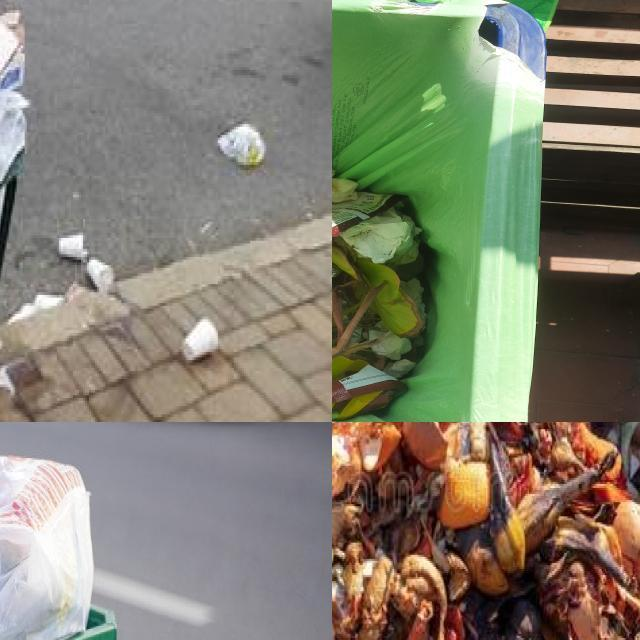Garbage: (332, 422, 640, 640), (332, 170, 426, 420), (0, 461, 93, 640)
Plastic_Bag: (0, 455, 93, 640)
Plastic_wraper: (332, 365, 407, 420), (332, 192, 403, 236)
